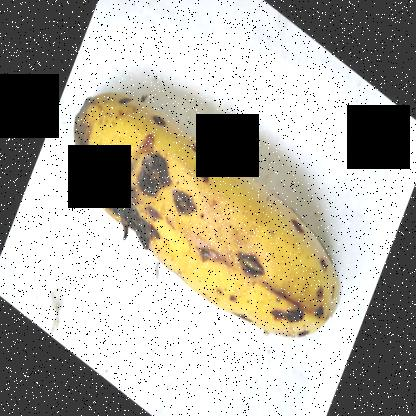rotten: (93, 181, 157, 262), (267, 301, 332, 358), (118, 144, 180, 200), (174, 133, 229, 193), (235, 248, 276, 290), (310, 241, 339, 291), (223, 304, 260, 336), (142, 105, 179, 136), (188, 237, 220, 268), (167, 184, 197, 210), (276, 219, 308, 243)
